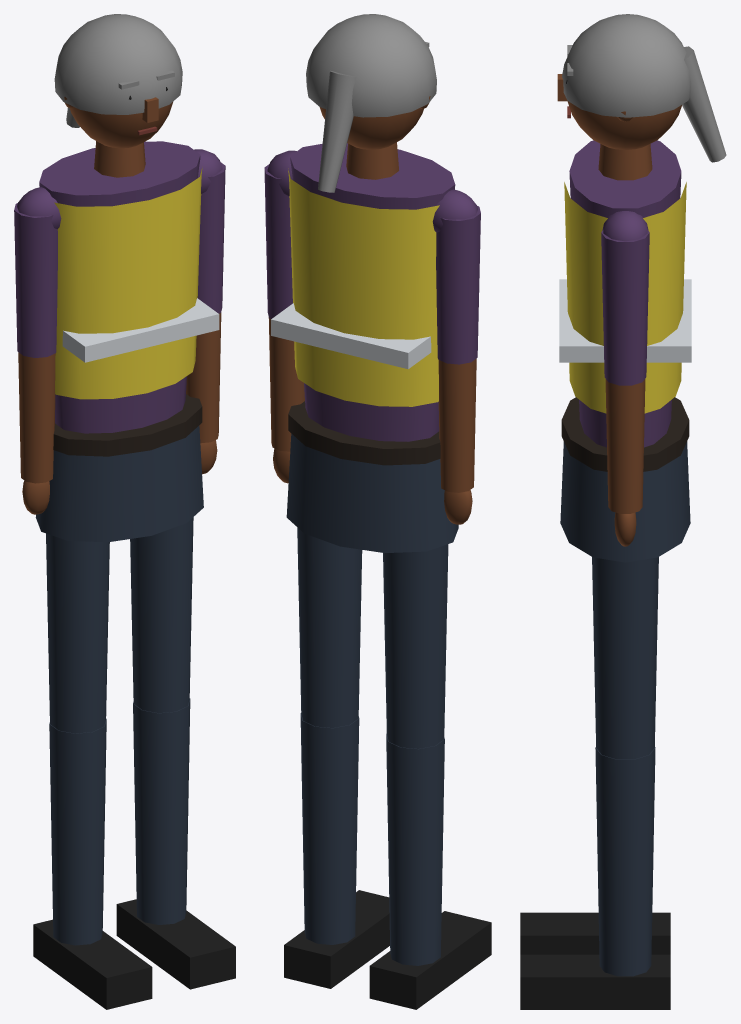
Rendered from person-field-1990s.glb.
The picture shows the model from 3 angles, left to right: view 1: azimuth 30°, elevation 25°; view 2: azimuth 150°, elevation 25°; view 3: azimuth 270°, elevation 25°; orthographic projection. The views are drawn at different scales.
Visible parts, largest first — view 1: spine, shinL, shinR, neck, hips, thighL, thighR, upperArmL, forearmL, upperArmR, forearmR, shoulderL (+1 smaller); view 2: spine, shinL, shinR, neck, hips, thighL, thighR, upperArmL, forearmL, upperArmR, forearmR, shoulderL (+1 smaller); view 3: spine, shinR, neck, thighR, hips, upperArmR, forearmR, shinL, shoulderR.
Part boxes in pixels (bbox=[...]): spine: bbox=[39, 141, 219, 456]; shinL: bbox=[33, 718, 152, 1009]; shinR: bbox=[116, 698, 235, 989]; neck: bbox=[54, 14, 182, 177]; hips: bbox=[35, 425, 203, 542]; thighL: bbox=[46, 533, 109, 733]; thighR: bbox=[130, 517, 193, 712]; upperArmL: bbox=[14, 203, 57, 357]; forearmL: bbox=[18, 352, 55, 514]; upperArmR: bbox=[197, 162, 225, 313]; forearmR: bbox=[186, 312, 221, 474]; shoulderL: bbox=[17, 187, 61, 228]; spine: bbox=[271, 143, 455, 465]; shinL: bbox=[369, 734, 491, 1009]; shinR: bbox=[284, 713, 389, 988]; neck: bbox=[306, 14, 436, 192]; hips: bbox=[286, 433, 458, 552]; thighL: bbox=[383, 544, 448, 748]; thighR: bbox=[297, 527, 362, 727]; upperArmL: bbox=[436, 206, 480, 364]; forearmL: bbox=[438, 358, 476, 524]; upperArmR: bbox=[264, 164, 292, 318]; forearmR: bbox=[268, 317, 304, 483]; shoulderL: bbox=[432, 189, 477, 232]; spine: bbox=[559, 140, 691, 471]; shinR: bbox=[520, 747, 670, 1009]; neck: bbox=[557, 14, 726, 180]; thighR: bbox=[592, 557, 658, 759]; hips: bbox=[560, 441, 690, 562]; upperArmR: bbox=[601, 230, 649, 385]; forearmR: bbox=[605, 379, 645, 546]; shinL: bbox=[520, 912, 670, 954]; shoulderR: bbox=[602, 211, 648, 241].
Size of the model in its own units: 0.4018 by 1.76 by 0.3434.
